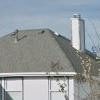Chimney: (67, 9, 100, 62)
